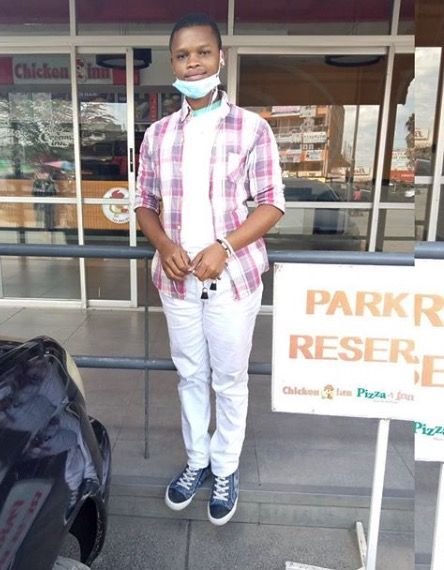mask_weared_incorrect: (172, 40, 223, 103)
